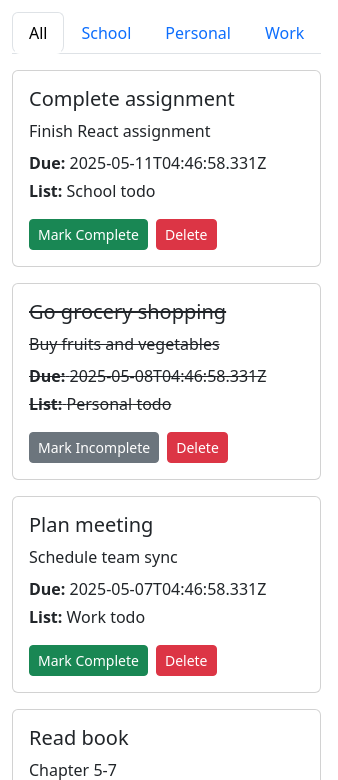
Scenario: TodoList Component › filters todos when a list tab is clicked
This screenshot has width=338, height=780.
Click on School tab
Step 1. Click the tab "School" → (106, 33), box [64, 12, 148, 54]
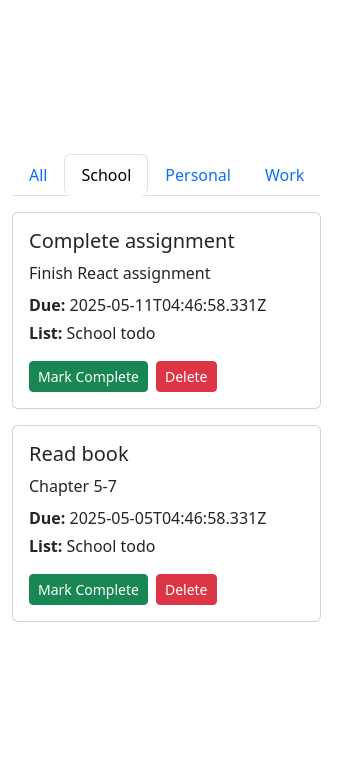
Check: the heading "Complete assignment" is shown, box [29, 227, 235, 254]
Check: the heading "Go grocery shopping" is gone
Check: the heading "Plan meeting" is gone
